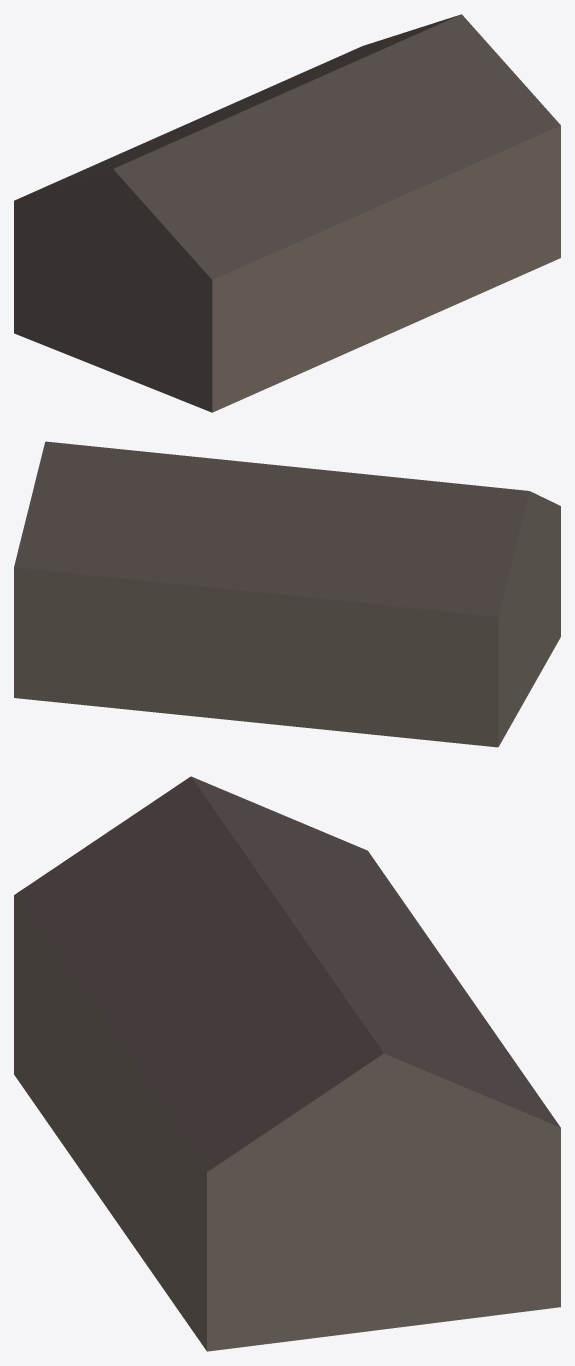
The picture shows the model from 3 angles, top to bottom: view 1: azimuth 30°, elevation 25°; view 2: azimuth 150°, elevation 25°; view 3: azimuth 270°, elevation 25°; orthographic projection. The views are drawn at different scales.
Parts seen in each view (by area): view 1: HP-w1376988794; view 2: HP-w1376988794; view 3: HP-w1376988794.
Boxes of the visible parts, x1,y1,x2,y2 form: HP-w1376988794: [14, 14, 560, 412]; HP-w1376988794: [14, 441, 560, 747]; HP-w1376988794: [14, 776, 560, 1351].
Size of the model in its own units: 23.08 by 9.23 by 16.59.
